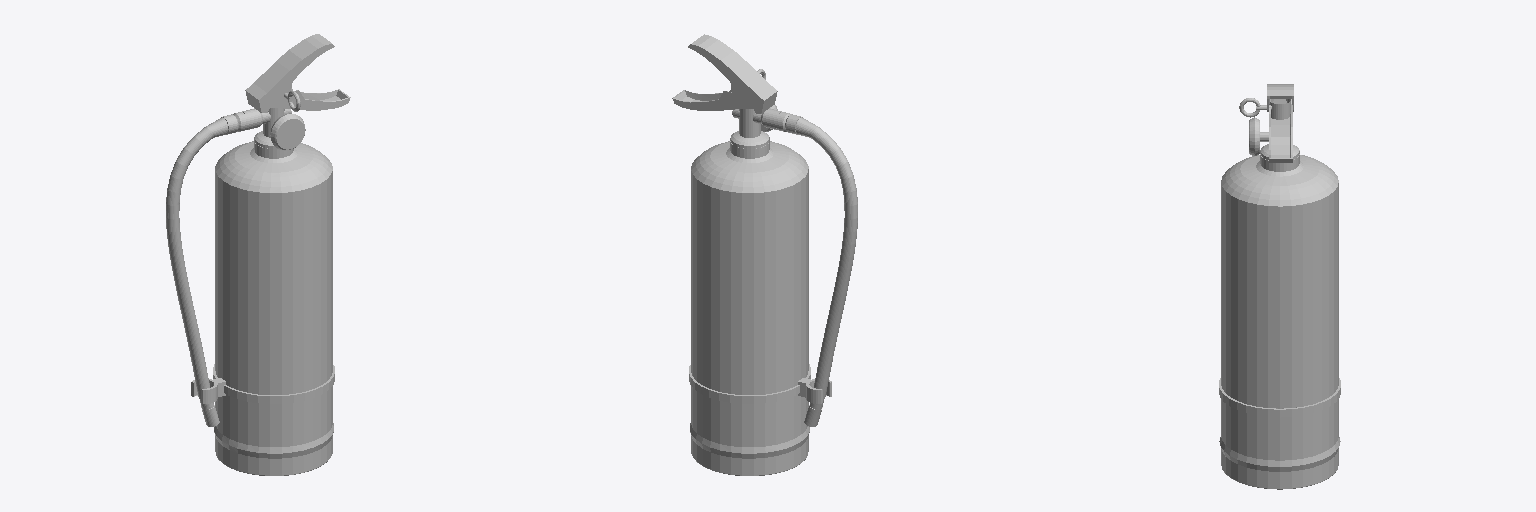
The model's file is 滅火器.obj.
3 views of the same model, side by side, from view 1: azimuth 30°, elevation 25°; view 2: azimuth 150°, elevation 25°; view 3: azimuth 270°, elevation 25° (orthographic).
Parts seen in each view (by area): view 1: Cylinder; view 2: Cylinder; view 3: Cylinder.
Part boxes in pixels (left/top/right/bottom): Cylinder: left=166, top=34, right=350, bottom=475; Cylinder: left=672, top=34, right=857, bottom=475; Cylinder: left=1219, top=84, right=1340, bottom=489.
Size of the model in its own units: 0.1611 by 0.3445 by 0.0958.